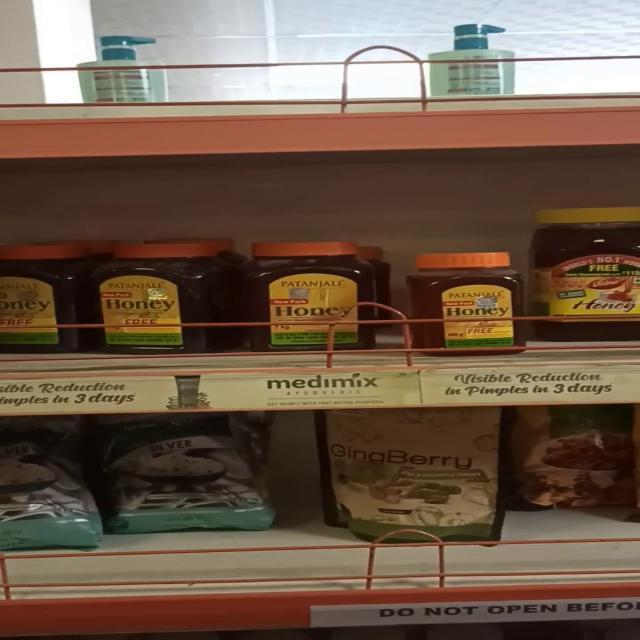Dabur Honey: (527, 196, 640, 338)
Patanjali Honey: (242, 238, 380, 347), (98, 238, 216, 352), (414, 250, 524, 357)
